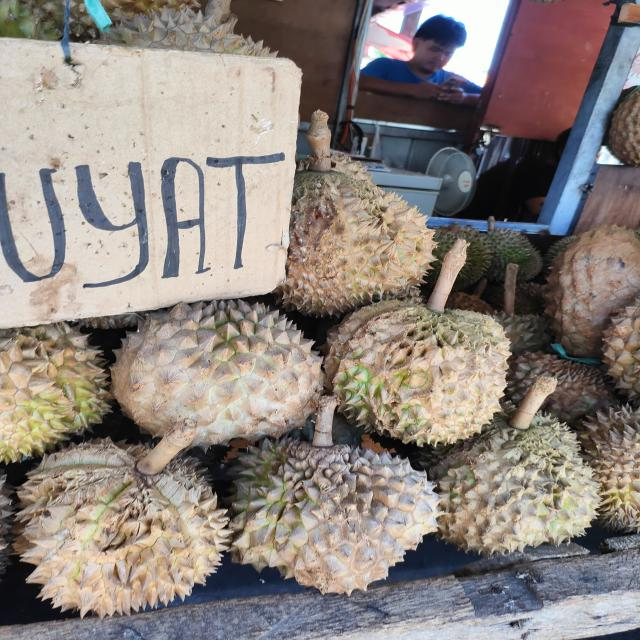mature: (13, 436, 234, 618), (216, 435, 443, 602), (105, 297, 324, 450), (413, 402, 601, 558), (317, 295, 512, 444)
